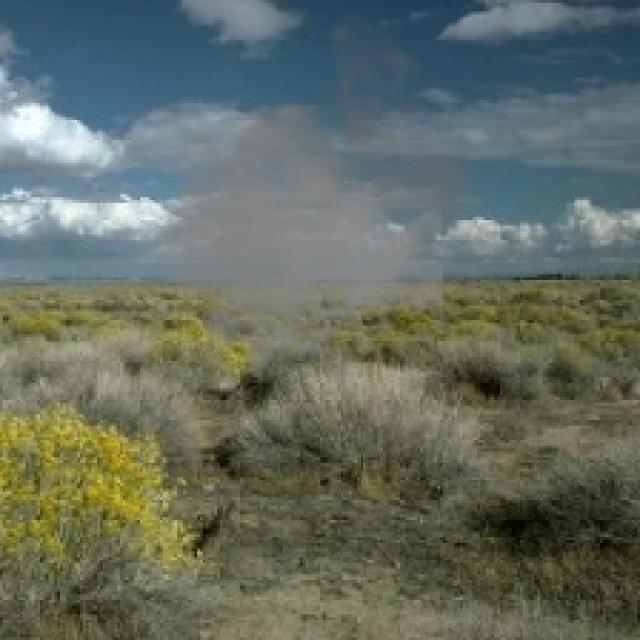Smoke: (134, 9, 486, 368)
